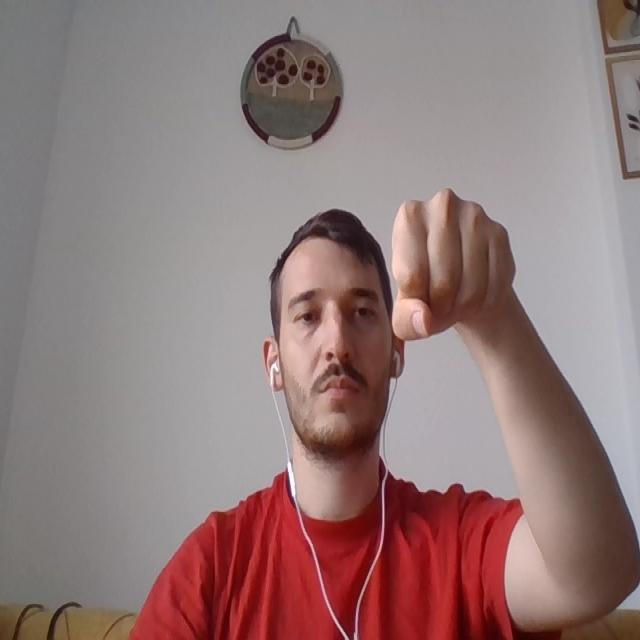yes: (389, 193, 517, 339)
